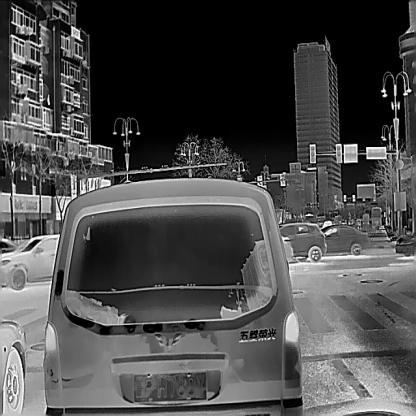car: (42, 176, 304, 415), (0, 233, 60, 291), (278, 221, 327, 263), (318, 222, 368, 255), (394, 231, 414, 257), (370, 205, 381, 228)
